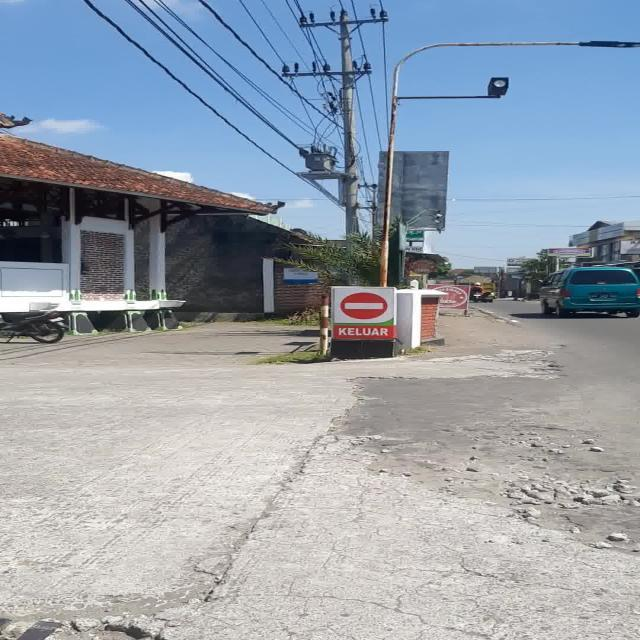Dilarang Masuk: (340, 292, 388, 320)
